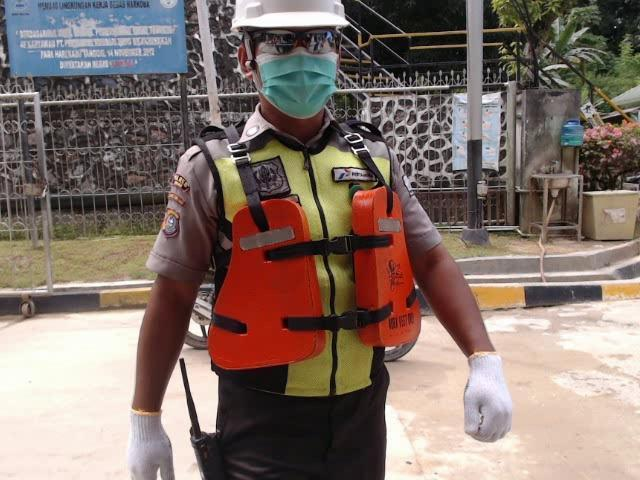vest: (200, 181, 429, 358)
